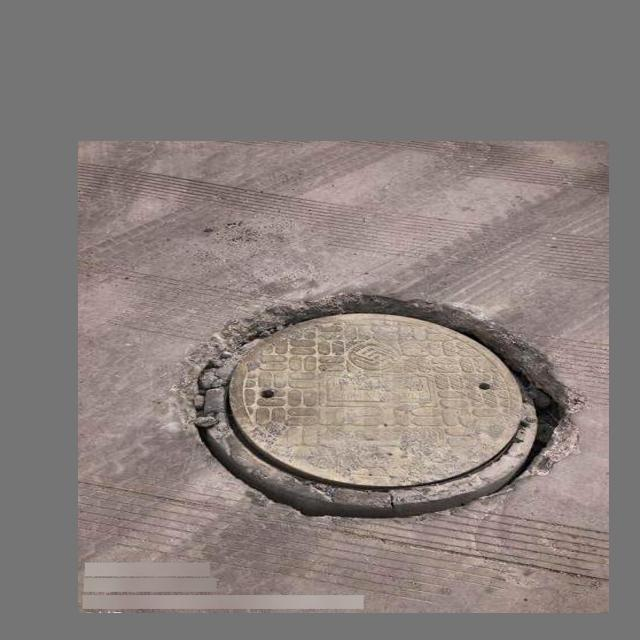circle: (184, 295, 564, 523)
